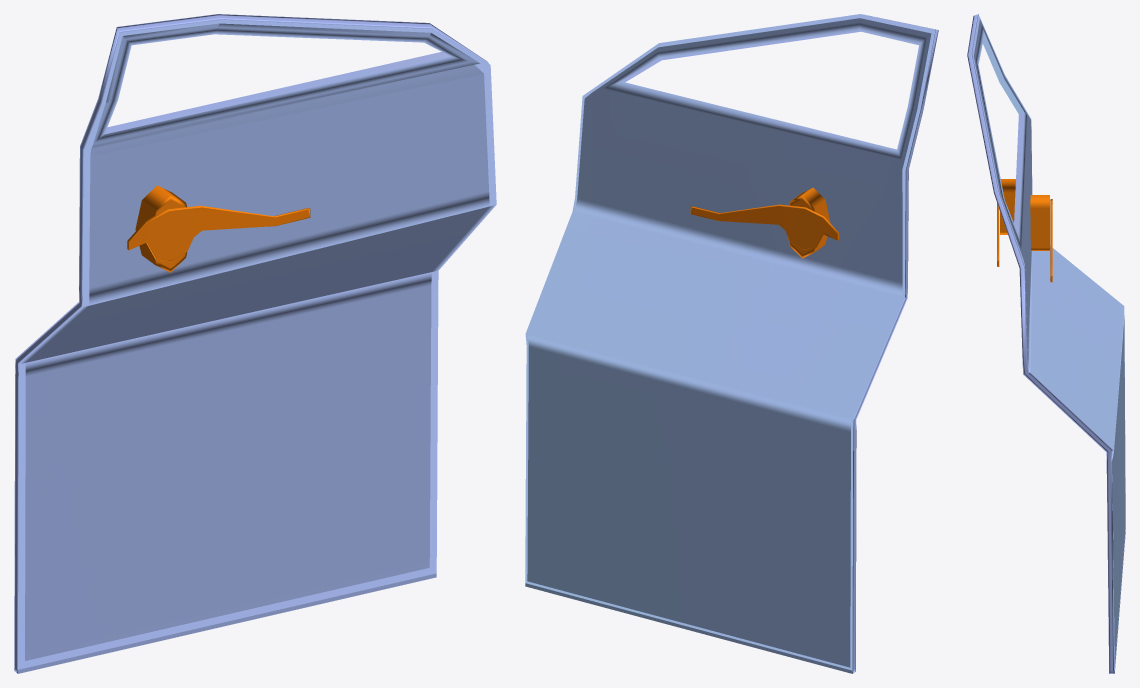
Rendered from PortaTrasDireitaCarro.fbx.
3 renders of one model, left to right at view 1: azimuth 30°, elevation 25°; view 2: azimuth 150°, elevation 25°; view 3: azimuth 270°, elevation 25°, orthographic. The views are drawn at different scales.
Parts seen in each view (by area): view 1: PortaTrasDireitaCarro; view 2: PortaTrasDireitaCarro; view 3: PortaTrasDireitaCarro.
Part boxes in pixels (<box>): PortaTrasDireitaCarro: <box>14,14,496,673</box>; PortaTrasDireitaCarro: <box>525,14,938,673</box>; PortaTrasDireitaCarro: <box>967,14,1125,673</box>.
Bounding box in the file's own units: 61.3 × 102 × 28.45.
